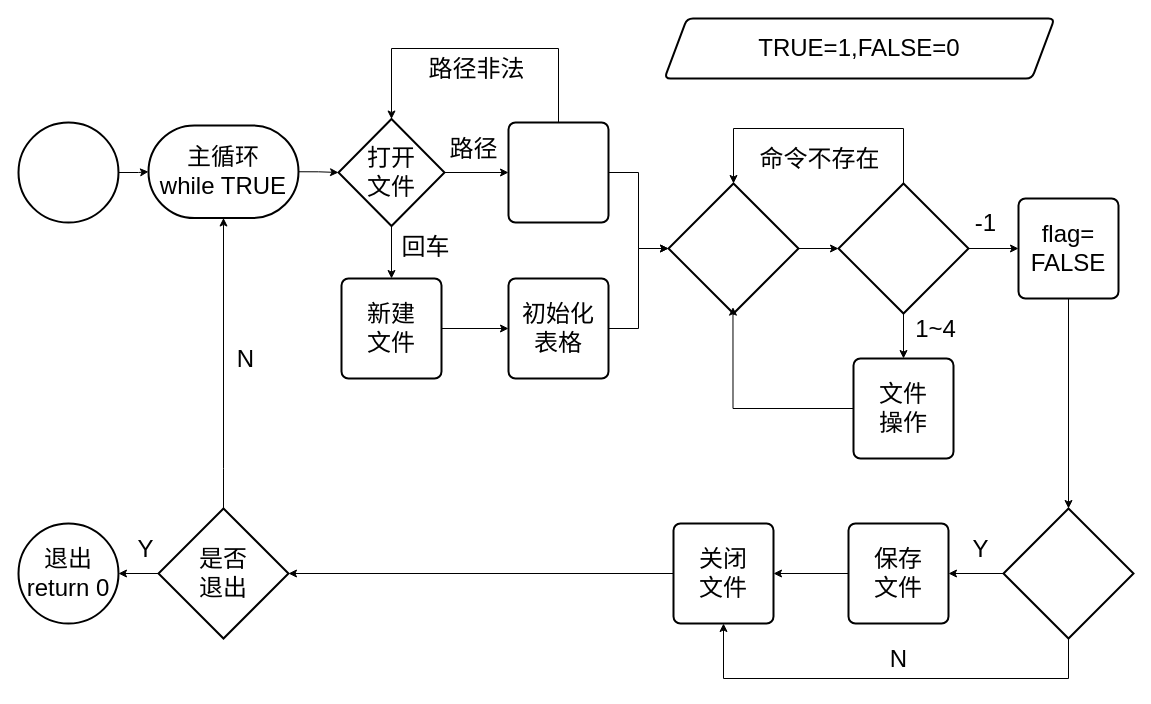
Image size: 1151x704. Some labels were removed from this diagram. The shapes that lost their labels are listed below. From the top down, each one's centre as x and y in pixels, then its label:
At point (68, 172): "开始 main".
At point (558, 172): "读取 文件".
At point (733, 248): "命令模式 while flag".
At point (903, 248): "com m and".
At point (1068, 573): "是否 保存".
